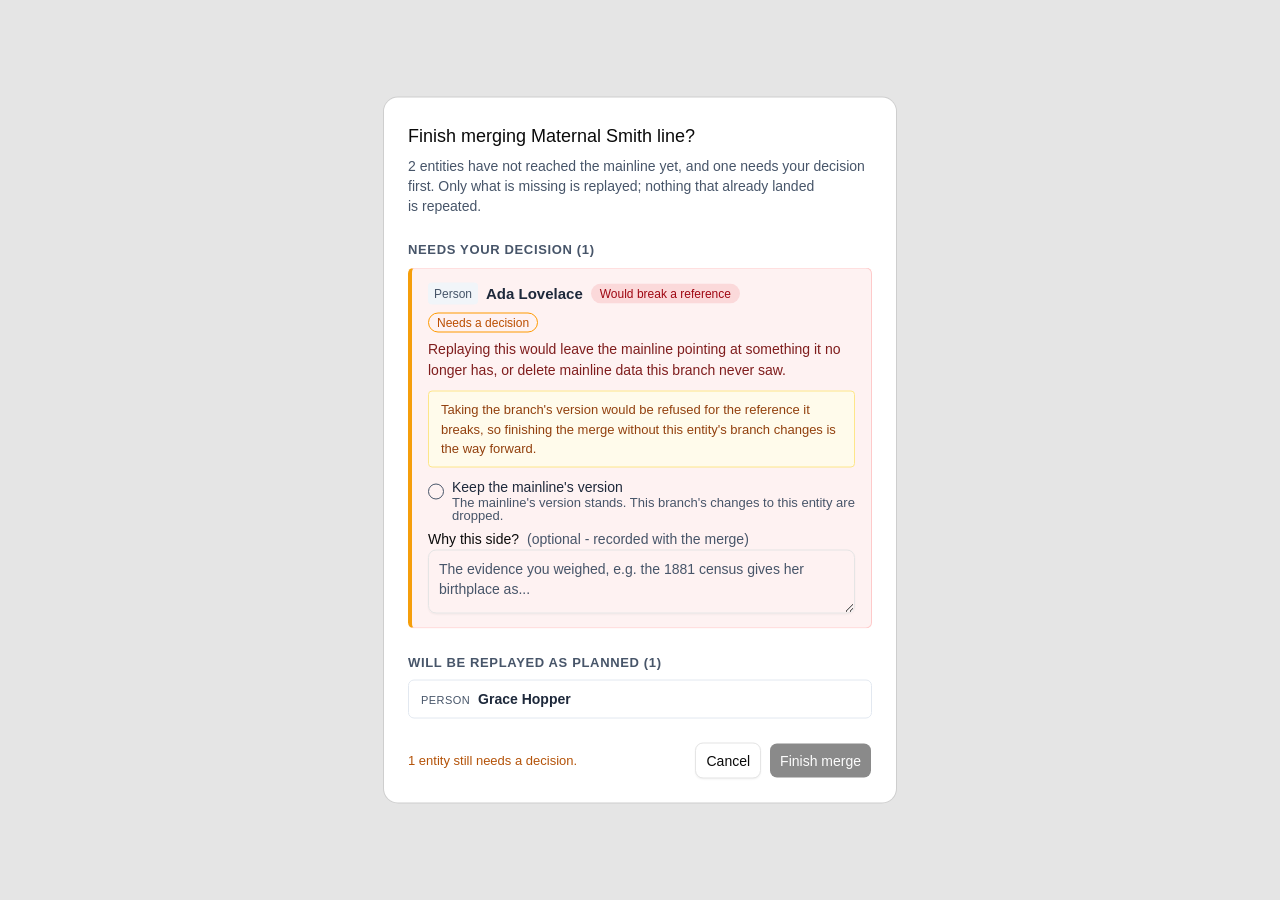
it: FinishMergeDialog › lists what is left, by name and why, and holds the finish until every decision is made
Expected: the heading "Finish merging Maternal Smith line?" is shown, [408,122,695,150]
Expected: the text "2 entities have not reached the mainline yet, and one needs your decision first" is shown, [408,158,865,214]
Click the radio button: (436, 491) [428,483,444,499]
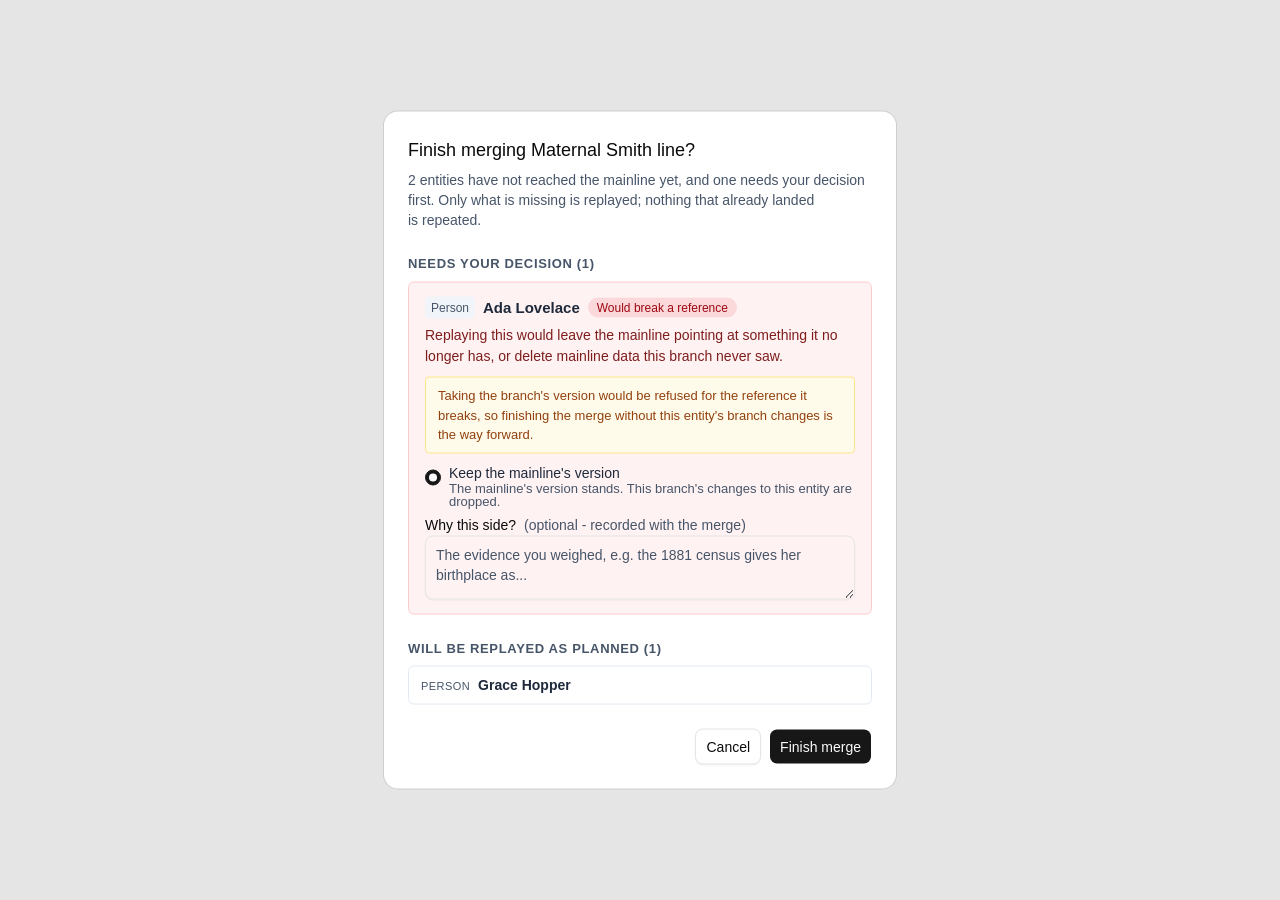
Now the button "Finish merge" is enabled
Click the button "Finish merge": (821, 746) [769,728,872,764]
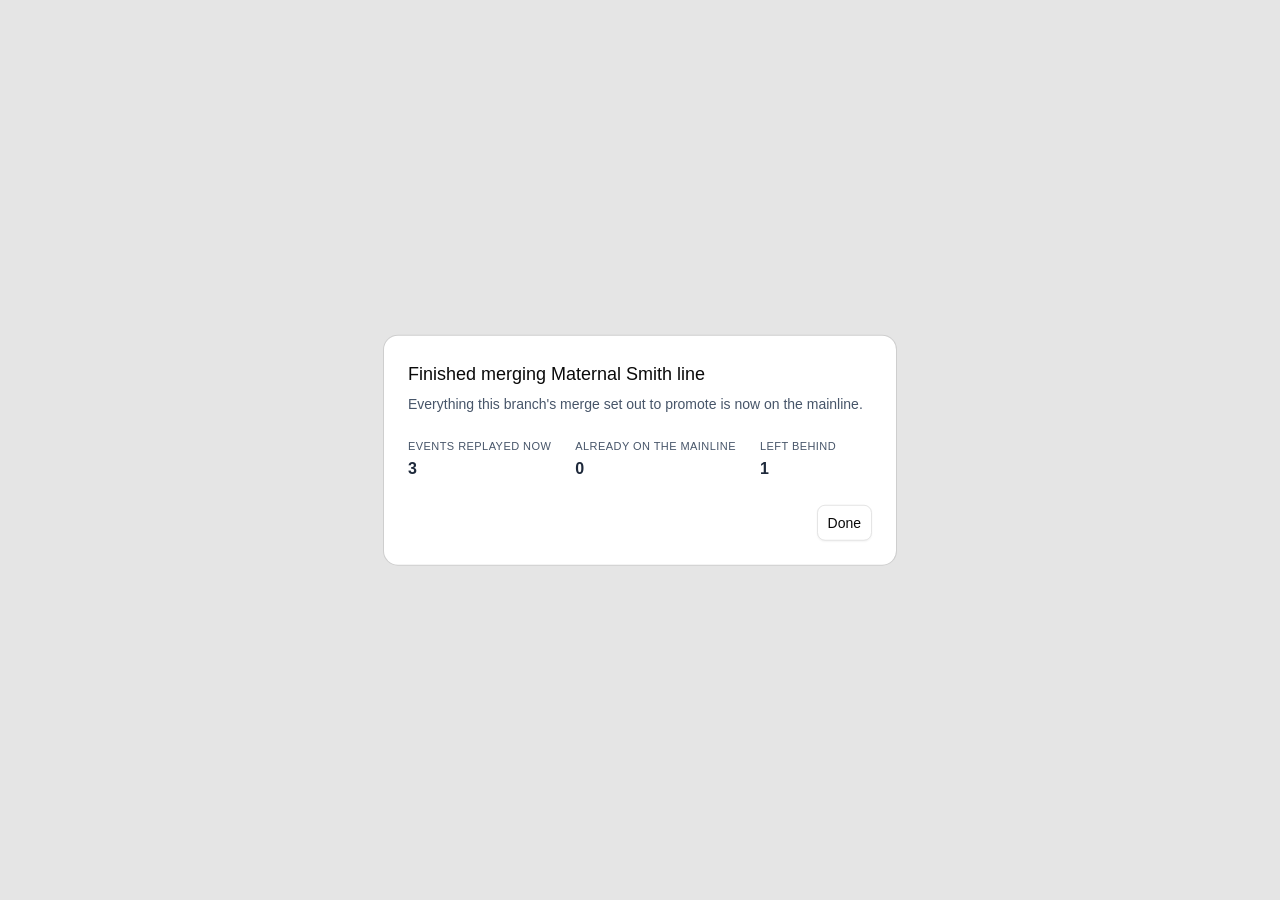
Now the heading "Finished merging Maternal Smith line" is shown, box [408,360,705,388]
Now the text "3" is shown, box [408,459,417,476]
